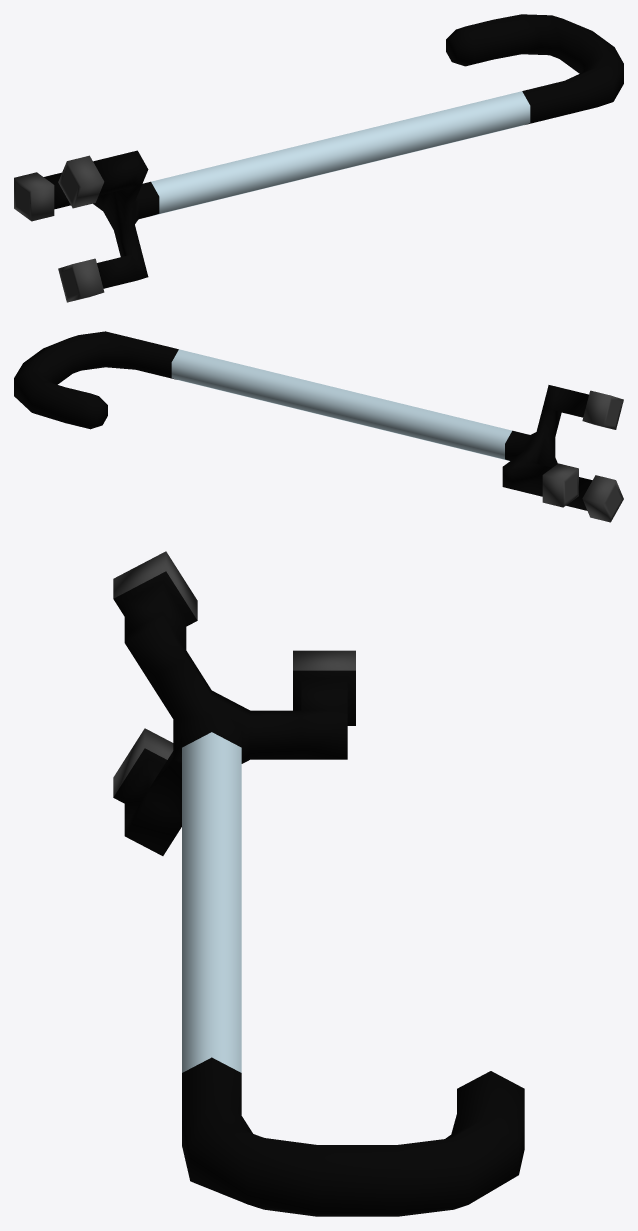
Rendered from char_010_item_walking_stick_02_FBX.fbx.
3 renders of one model, top to bottom at view 1: azimuth 30°, elevation 25°; view 2: azimuth 150°, elevation 25°; view 3: azimuth 270°, elevation 25°, orthographic. The views are drawn at different scales.
Parts seen in each view (by area): view 1: item_walking_stick_02; view 2: item_walking_stick_02; view 3: item_walking_stick_02.
Boxes of the visible parts, x1,y1,x2,y2 form: item_walking_stick_02: [14, 14, 623, 302]; item_walking_stick_02: [14, 331, 623, 522]; item_walking_stick_02: [113, 551, 524, 1216].
Bounding box in the file's own units: 2.89 × 0.6633 × 0.973.
Materials: 1 (1 with a texture image).
